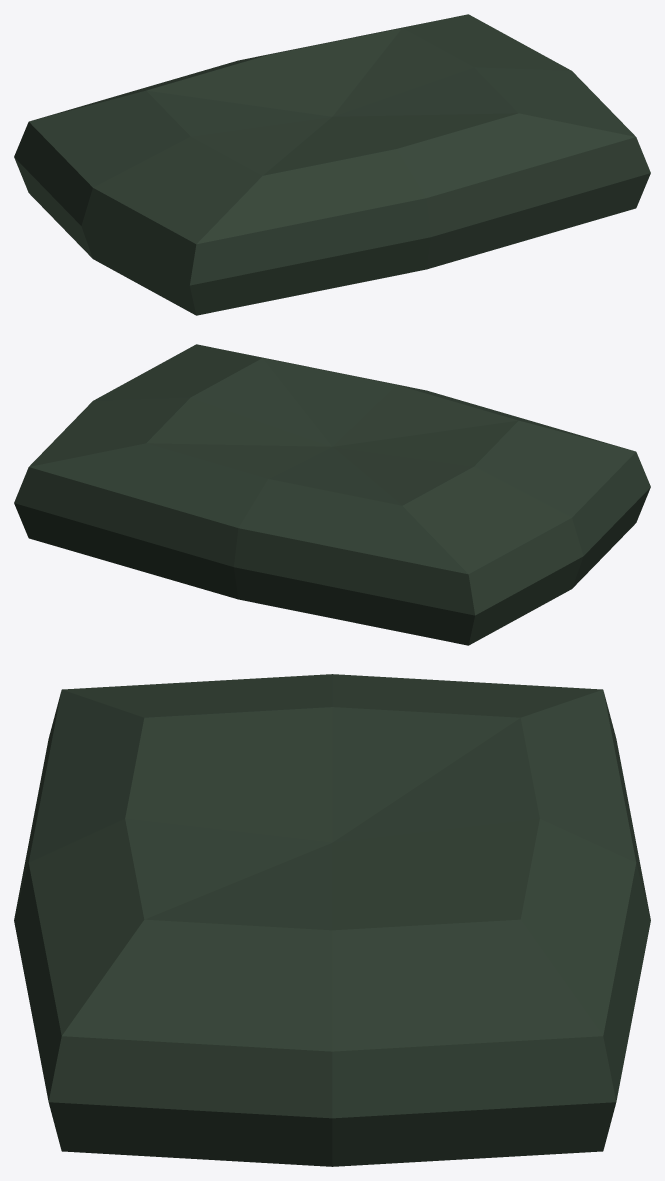
File: Itr_Bed_Pillow_16.FBX
3 views of the same model, one above another, from view 1: azimuth 30°, elevation 25°; view 2: azimuth 150°, elevation 25°; view 3: azimuth 270°, elevation 25° (orthographic). The views are drawn at different scales.
Parts seen in each view (by area): view 1: Itr_Bed_Pillow_16; view 2: Itr_Bed_Pillow_16; view 3: Itr_Bed_Pillow_16.
Part boxes in pixels (x1=…): Itr_Bed_Pillow_16: x1=14, y1=14, x2=650, y2=315; Itr_Bed_Pillow_16: x1=14, y1=344, x2=650, y2=645; Itr_Bed_Pillow_16: x1=14, y1=674, x2=650, y2=1166.
Size of the model in its own units: 21.39 by 4.02 by 14.55.
